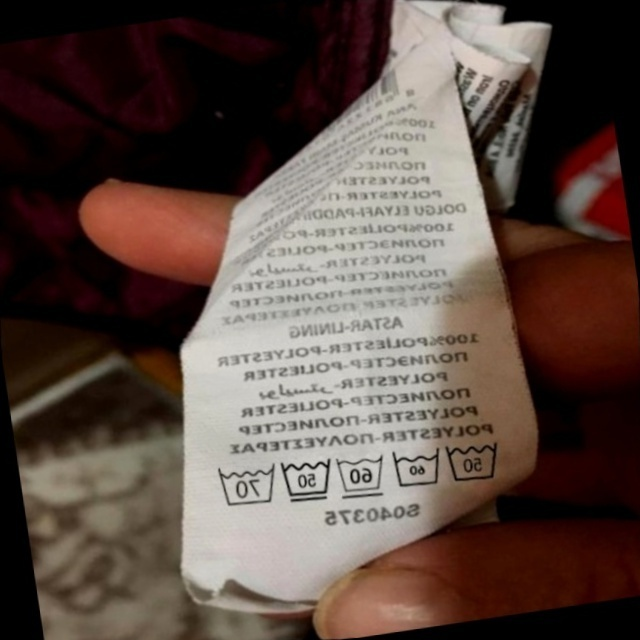50C: (435, 427, 511, 494), (271, 448, 341, 512)
60C: (326, 443, 392, 506), (382, 438, 449, 499)
70C: (205, 454, 282, 516)
